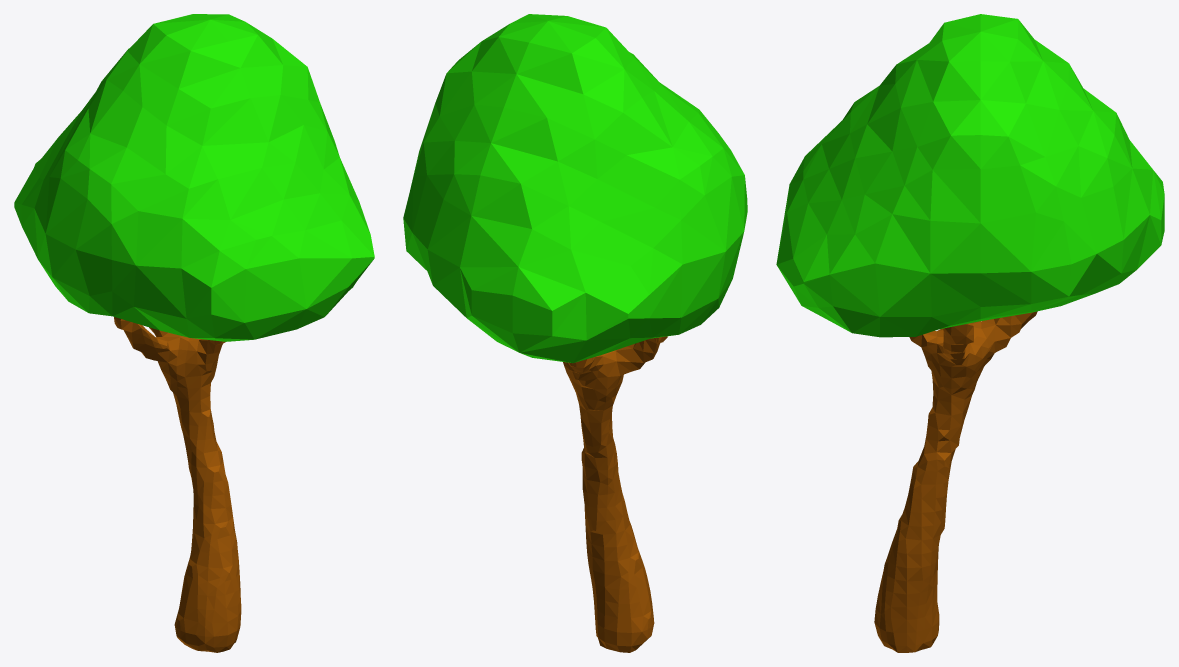
File: Tree.fbx
3 renders of one model, left to right at view 1: azimuth 30°, elevation 25°; view 2: azimuth 150°, elevation 25°; view 3: azimuth 270°, elevation 25°, orthographic. The views are drawn at different scales.
Parts seen in each view (by area): view 1: Icosphere; view 2: Icosphere; view 3: Icosphere.
Part boxes in pixels (box(x1,y1,x2,y2)): Icosphere: box(14, 14, 374, 652); Icosphere: box(403, 14, 747, 652); Icosphere: box(776, 14, 1164, 652).
Bounding box in the file's own units: 1127 × 2329 × 1297.
